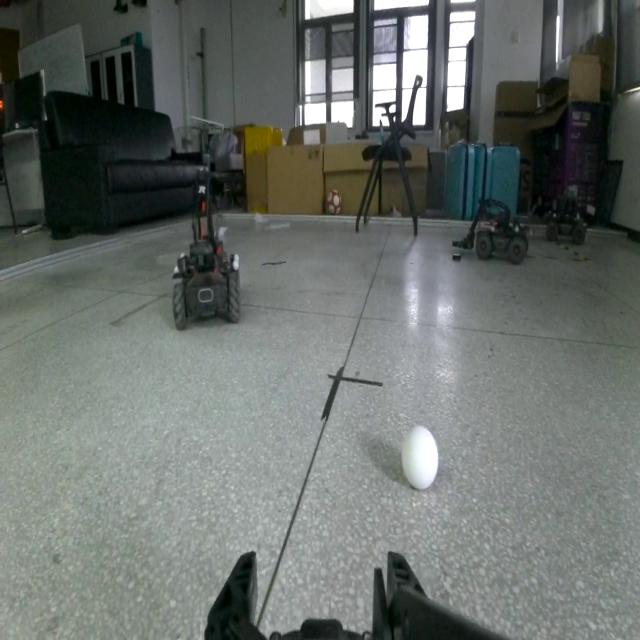ball1: (400, 424, 439, 491)
ep: (169, 169, 244, 329), (449, 195, 535, 268)
